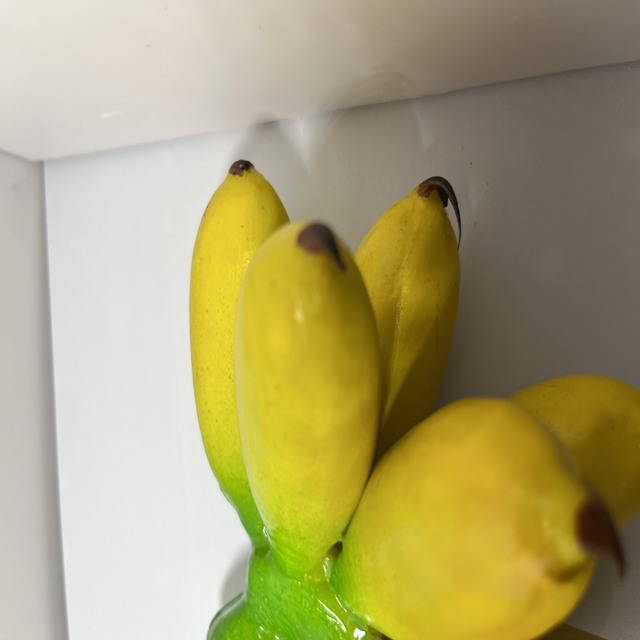Chuoi: (182, 153, 640, 640)
